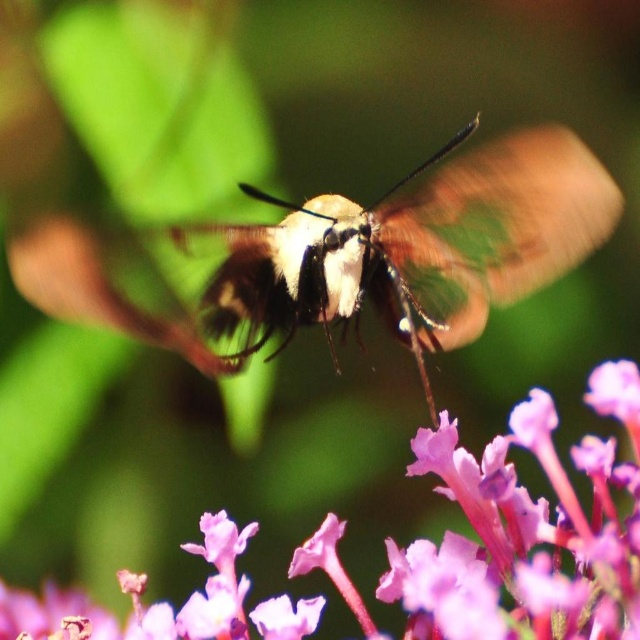Butterfly: (6, 114, 626, 428)
